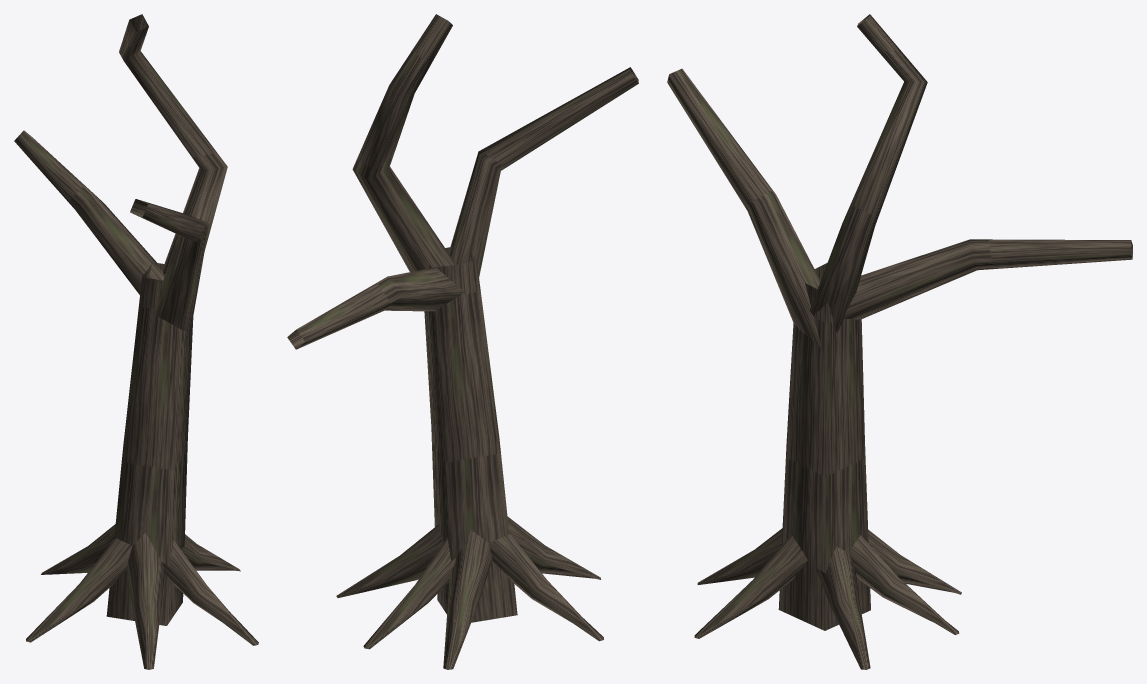
The model's file is DeadTree_4_LOD2.gltf.
The picture shows the model from 3 angles, left to right: view 1: azimuth 30°, elevation 25°; view 2: azimuth 150°, elevation 25°; view 3: azimuth 270°, elevation 25°; orthographic projection. The views are drawn at different scales.
Parts seen in each view (by area): view 1: DeadTree_4_LOD2; view 2: DeadTree_4_LOD2; view 3: DeadTree_4_LOD2.
Part boxes in pixels (x1,y1,x2,y2): DeadTree_4_LOD2: (14,14,258,669); DeadTree_4_LOD2: (287,14,638,669); DeadTree_4_LOD2: (667,14,1132,669).
Bounding box in the file's own units: 5.74 × 13.54 × 9.46.
1 material, 1 textured.
